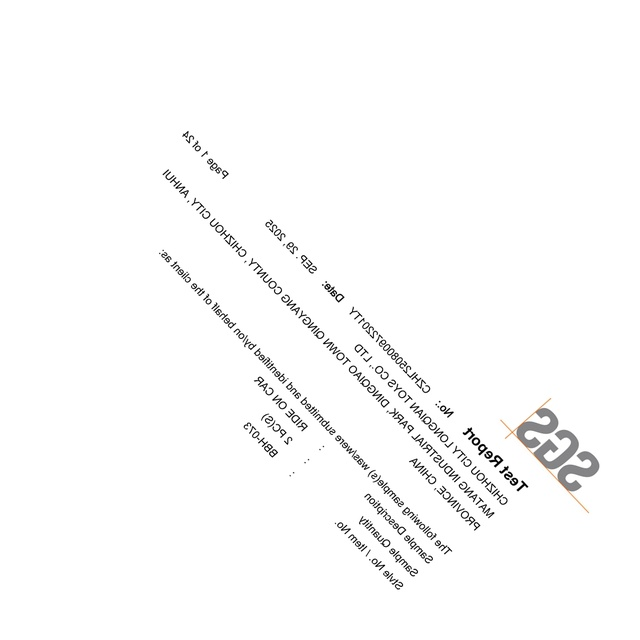sgs: (517, 406, 599, 491)
